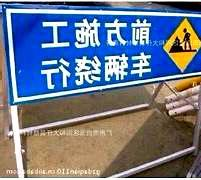sign: (3, 7, 201, 99)
